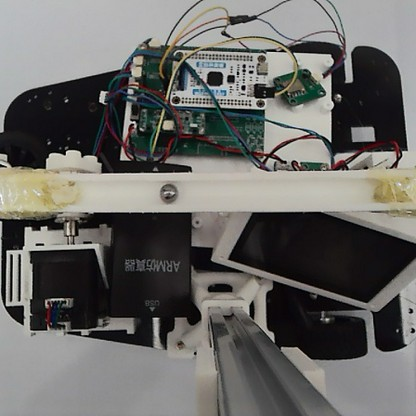ironball: (157, 181, 179, 203)
